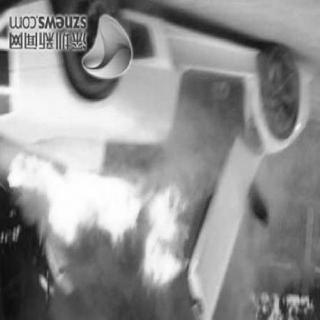Fire: (8, 120, 198, 300)
